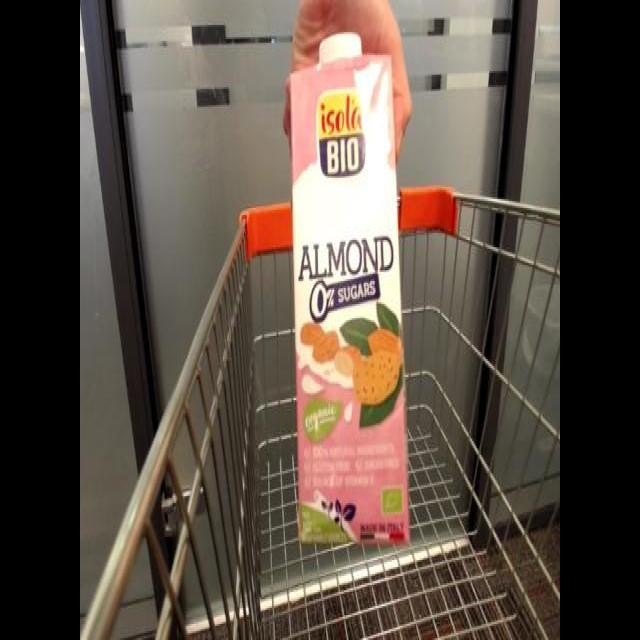Almond Milk: (282, 28, 420, 552)
